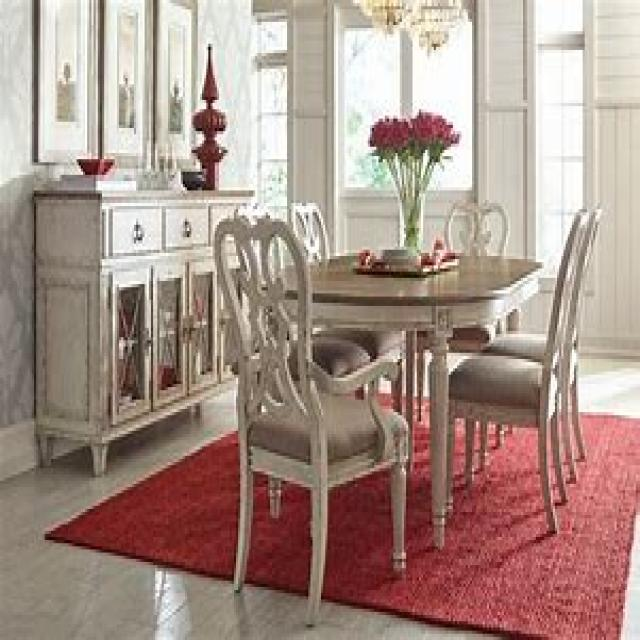chair: (213, 206, 408, 624)
table: (251, 246, 542, 550)
